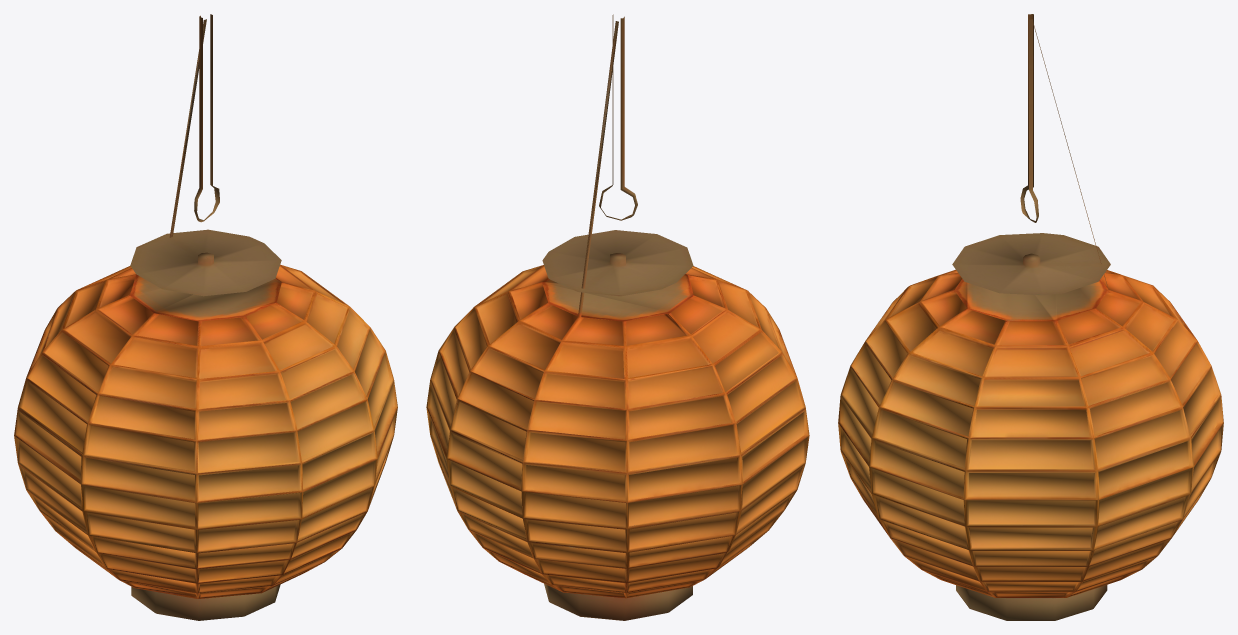
The model's file is hanging-lantern.glb.
3 views of the same model, side by side, from view 1: azimuth 30°, elevation 25°; view 2: azimuth 150°, elevation 25°; view 3: azimuth 270°, elevation 25° (orthographic).
Parts seen in each view (by area): view 1: tripo_node_8584ec0f-7ced-4632-a38f-b02533e48c92; view 2: tripo_node_8584ec0f-7ced-4632-a38f-b02533e48c92; view 3: tripo_node_8584ec0f-7ced-4632-a38f-b02533e48c92.
Part boxes in pixels (x1,y1,x2,y2): tripo_node_8584ec0f-7ced-4632-a38f-b02533e48c92: (14,14,397,620); tripo_node_8584ec0f-7ced-4632-a38f-b02533e48c92: (426,14,809,620); tripo_node_8584ec0f-7ced-4632-a38f-b02533e48c92: (838,14,1223,620).
Bounding box in the file's own units: 0.5773 × 1 × 0.6086.
1 material, 1 textured.
